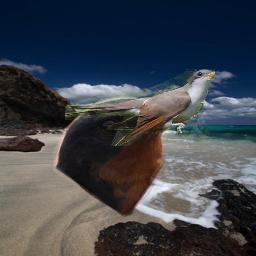Cuckoo: (65, 69, 215, 146)
Swallow: (53, 95, 194, 217)
